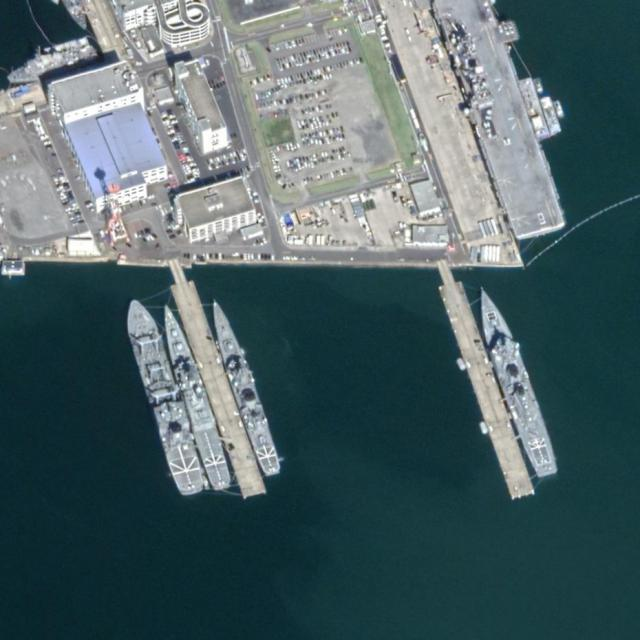Auxiliary Ships: (117, 295, 209, 497)
Destroyer: (467, 283, 562, 481), (202, 295, 285, 480)
Dock: (433, 265, 536, 502), (164, 257, 264, 496)
Other Warship: (151, 299, 237, 491)
